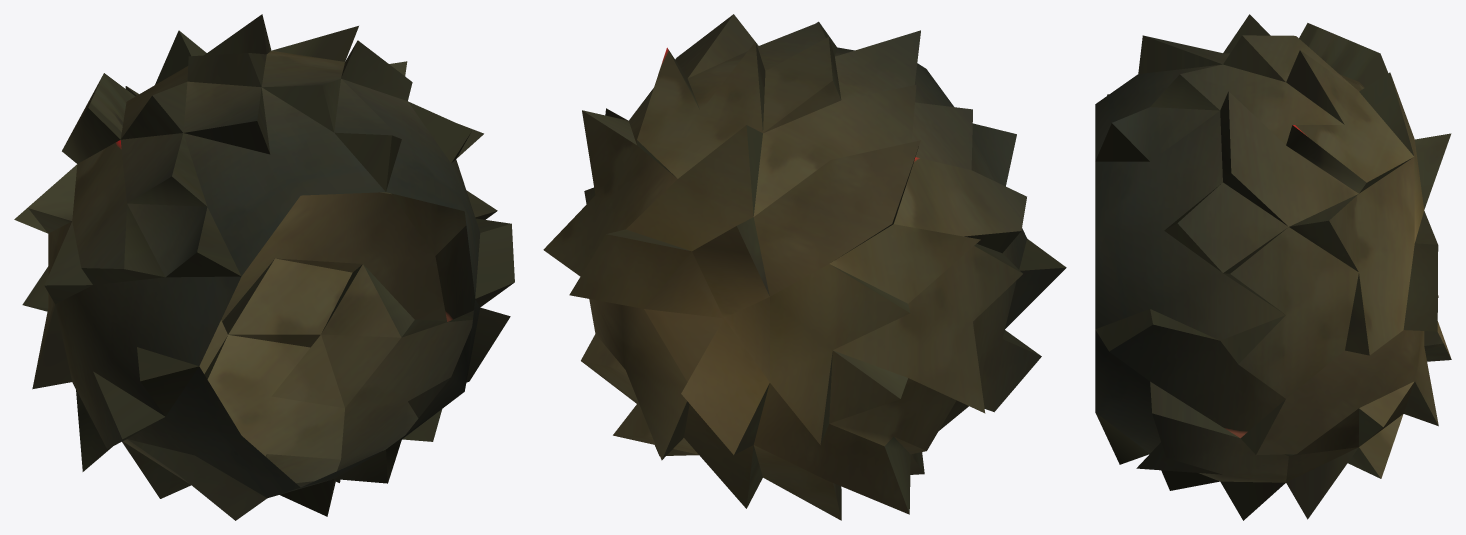
The model's file is Bush_B.fbx.
3 renders of one model, left to right at view 1: azimuth 30°, elevation 25°; view 2: azimuth 150°, elevation 25°; view 3: azimuth 270°, elevation 25°, orthographic. The views are drawn at different scales.
Visible parts, largest first — view 1: Bush_B; view 2: Bush_B; view 3: Bush_B.
Boxes of the visible parts, left/top/right/bottom form: Bush_B: left=14, top=14, right=514, bottom=520; Bush_B: left=543, top=14, right=1066, bottom=520; Bush_B: left=1095, top=14, right=1451, bottom=520.
Size of the model in its own units: 58.53 by 57.47 by 41.47.
